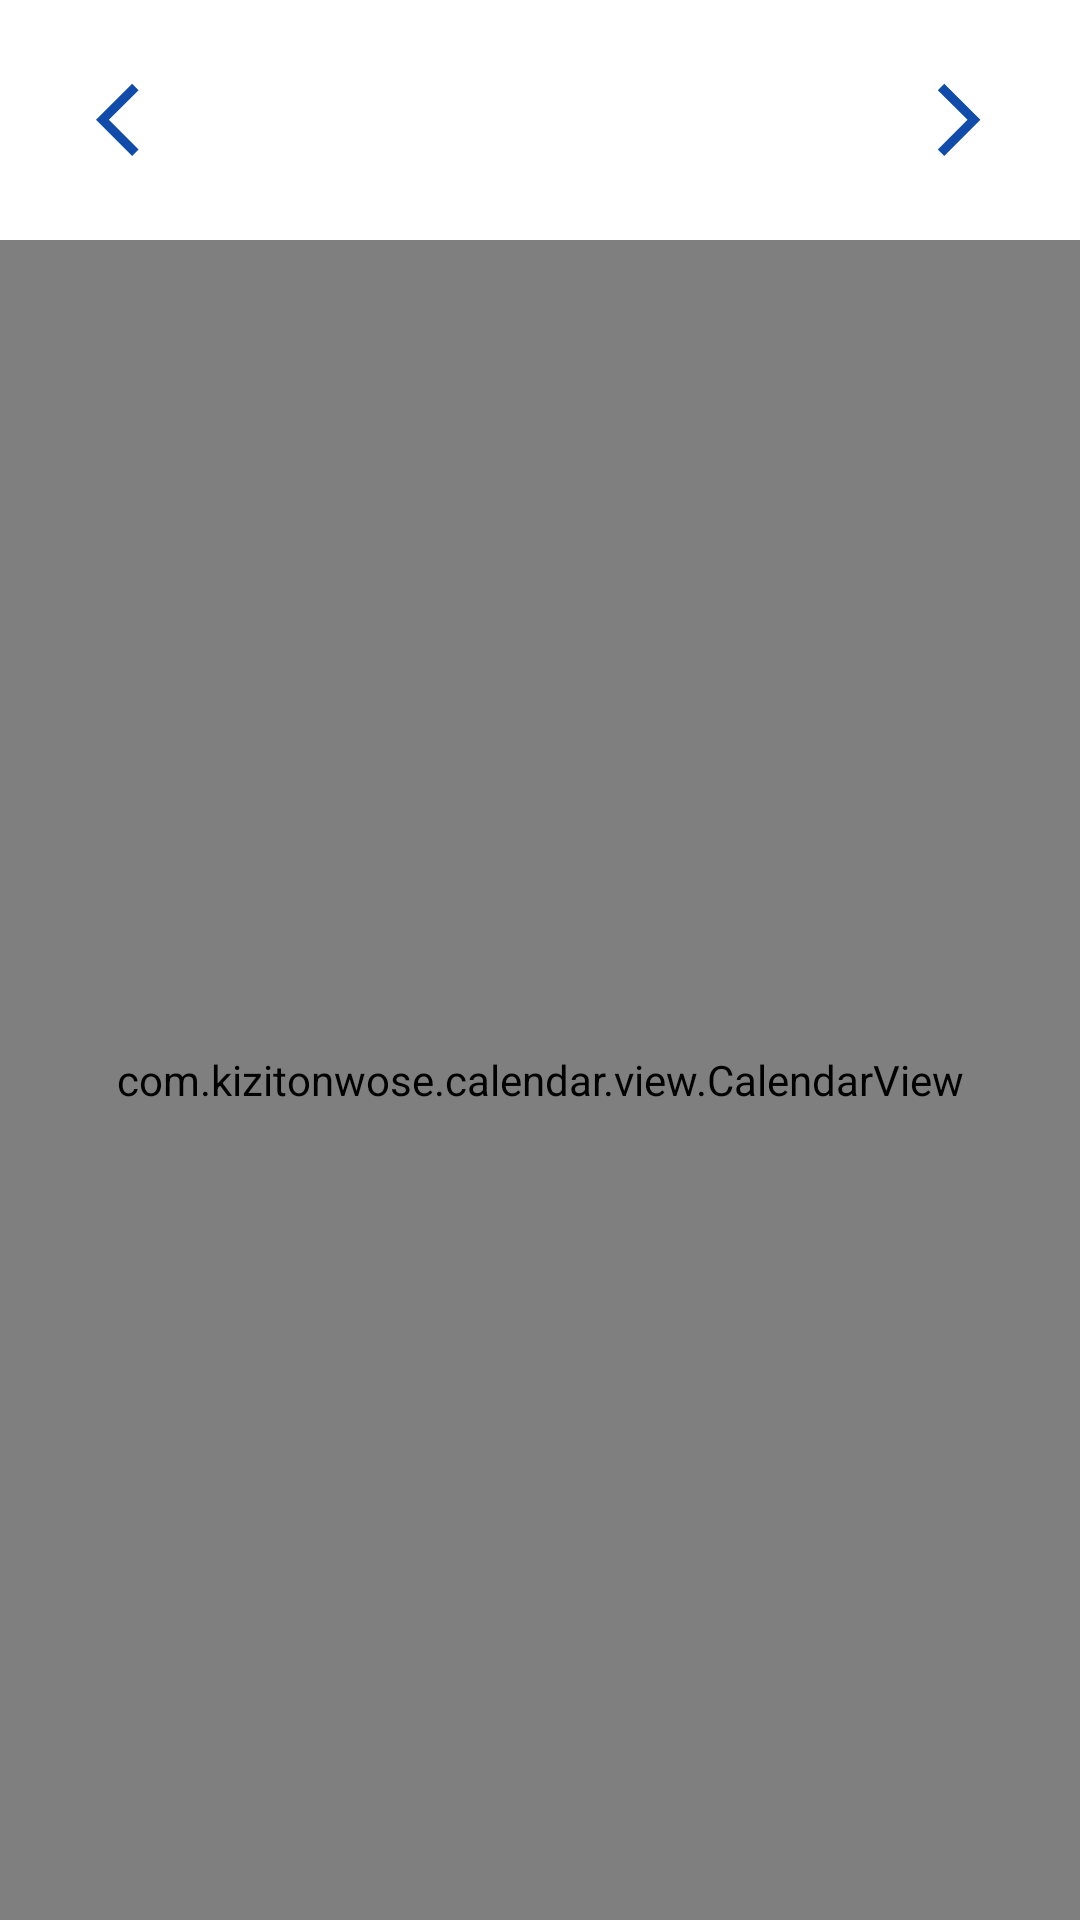

Screen size 1080*1920. Icon name, then its center in pixels as point (x, y):
chevron left: point (117, 120)
chevron right: point (959, 120)
